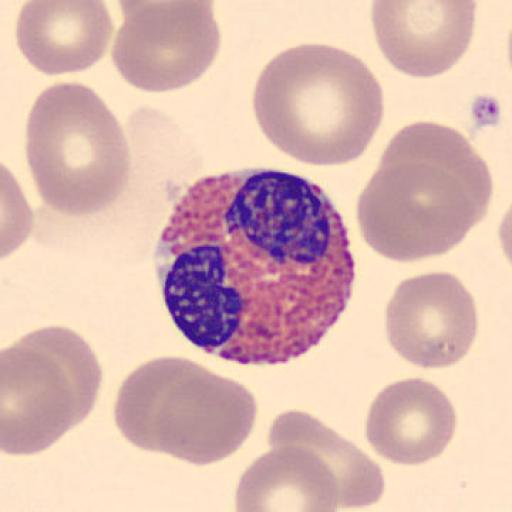RBC: (251, 41, 386, 169), (112, 354, 259, 467), (23, 80, 131, 218), (354, 160, 475, 265), (266, 407, 387, 511), (378, 119, 492, 225), (112, 354, 219, 457), (4, 324, 104, 430), (154, 367, 258, 467), (111, 2, 222, 94), (383, 269, 480, 371), (363, 376, 458, 467), (371, 0, 477, 79), (2, 344, 75, 457), (14, 1, 114, 77), (234, 443, 341, 512), (115, 0, 220, 56), (116, 0, 212, 39), (1, 162, 33, 261), (116, 0, 222, 24), (496, 201, 512, 273)
WBC: (156, 166, 357, 366)
